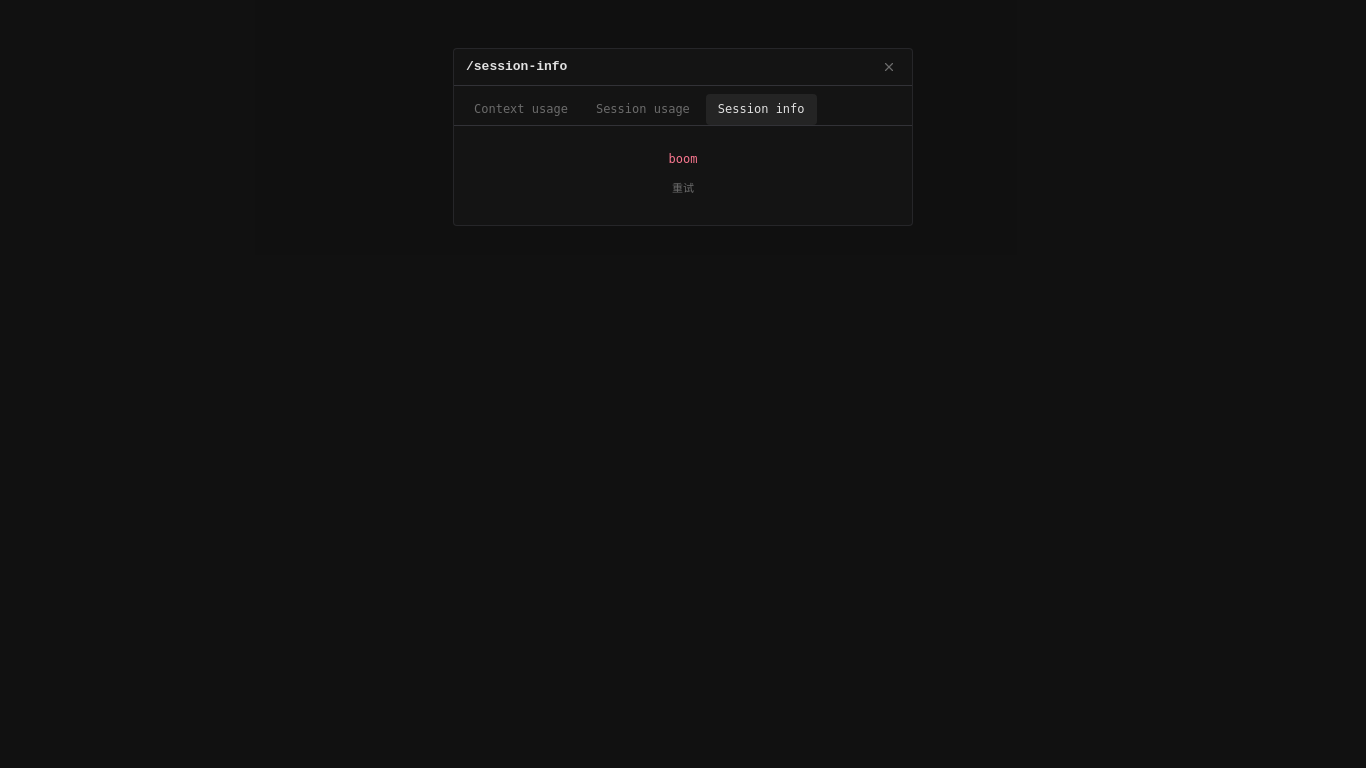
Test: SessionInfoModal › host 请求失败 → 错误 + 重试成功
Expected: the text "boom" is shown, 668,152 -> 697,166
Click the button "重试" at coordinates (683, 189), box 660,176 -> 706,201
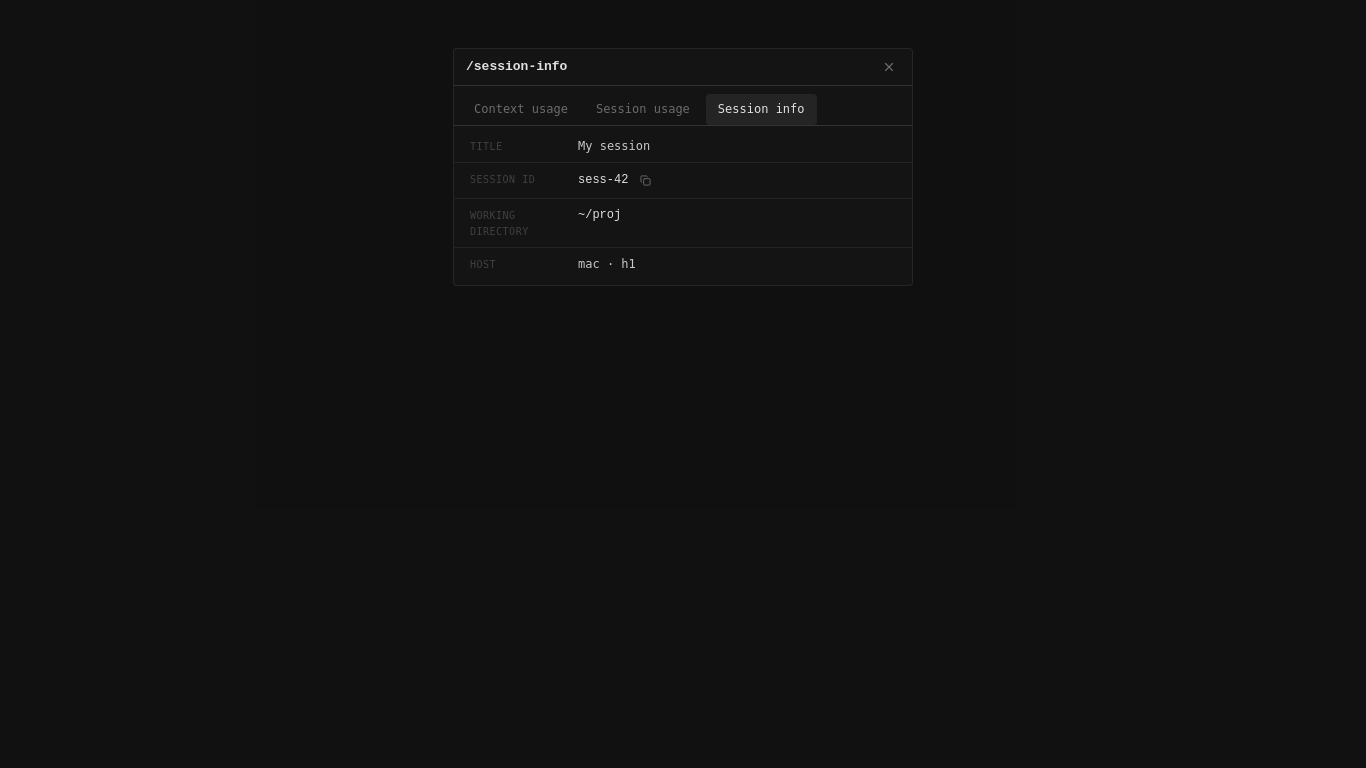
Expected: the text "My session" is shown, 578,139 -> 650,153
